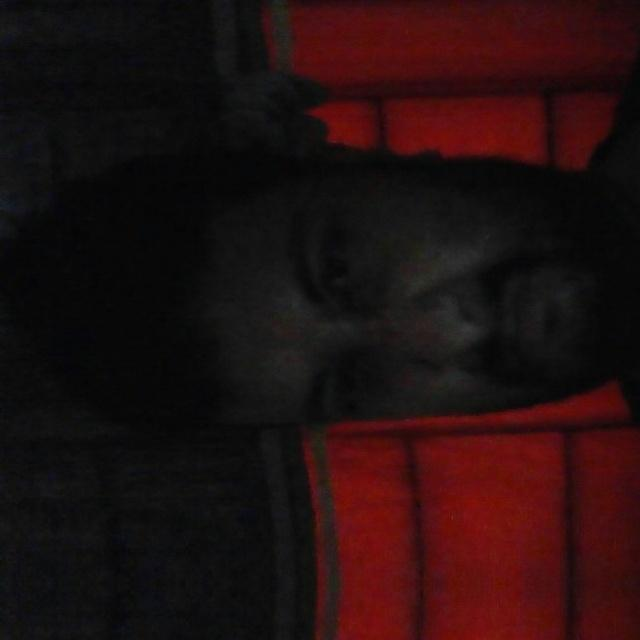Disgust: (93, 119, 640, 465)
